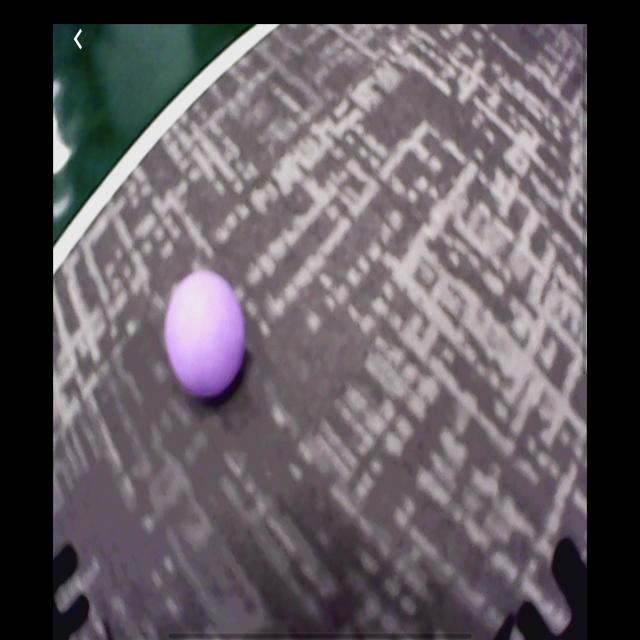ball: (164, 272, 246, 399)
